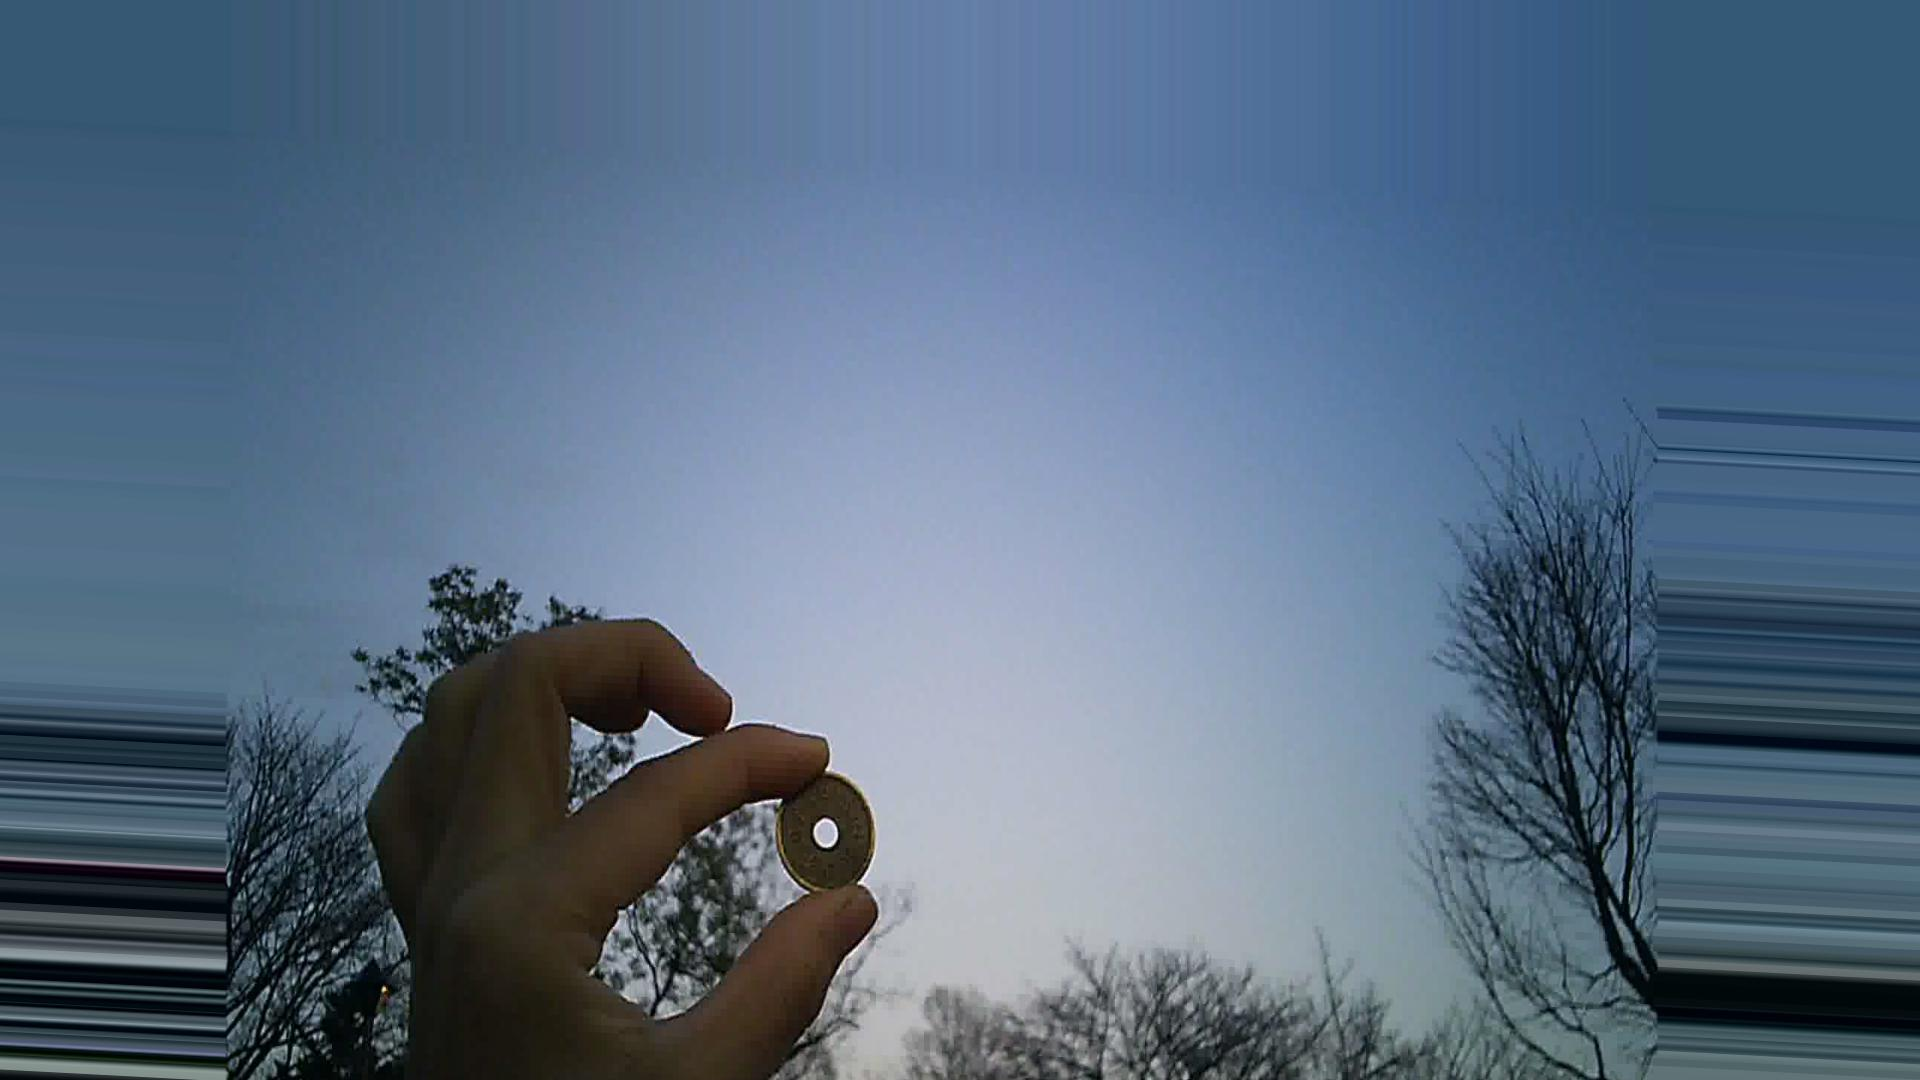5 Yen: (767, 756, 887, 902)
